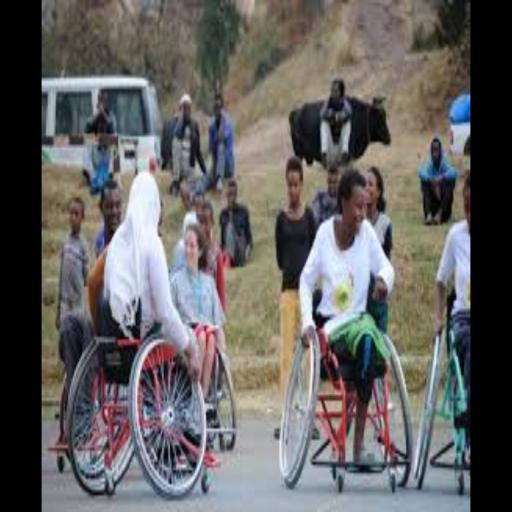cadeira_de_rodas: (48, 297, 219, 508), (267, 283, 422, 507), (412, 266, 470, 499), (167, 316, 246, 451)
